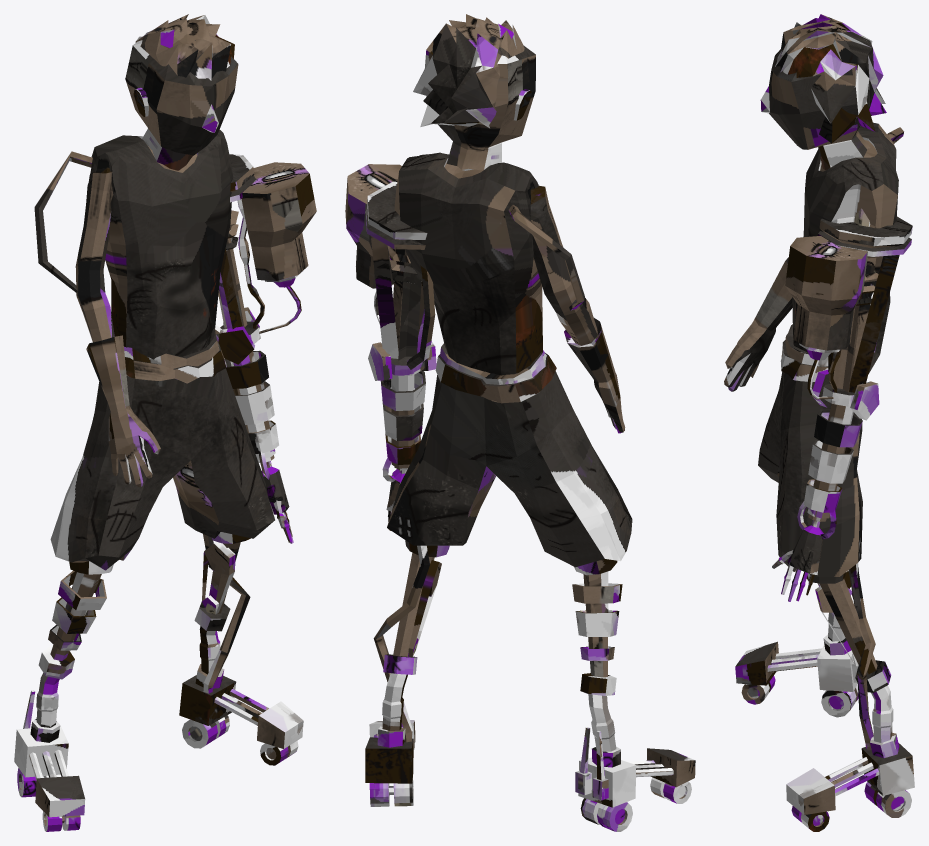
Rendered from CyborgFINALAnimation_000146.obj.
3 views of the same model, side by side, from view 1: azimuth 30°, elevation 25°; view 2: azimuth 150°, elevation 25°; view 3: azimuth 270°, elevation 25° (orthographic). The views are drawn at different scales.
Parts seen in each view (by area): view 1: CyborgMesh_Cube.002; view 2: CyborgMesh_Cube.002; view 3: CyborgMesh_Cube.002.
Boxes of the visible parts, x1,y1,x2,y2 form: CyborgMesh_Cube.002: (14,14,316,831); CyborgMesh_Cube.002: (345,14,695,831); CyborgMesh_Cube.002: (724,14,914,831).
Size of the model in its own units: 4 by 9.65 by 2.19.
